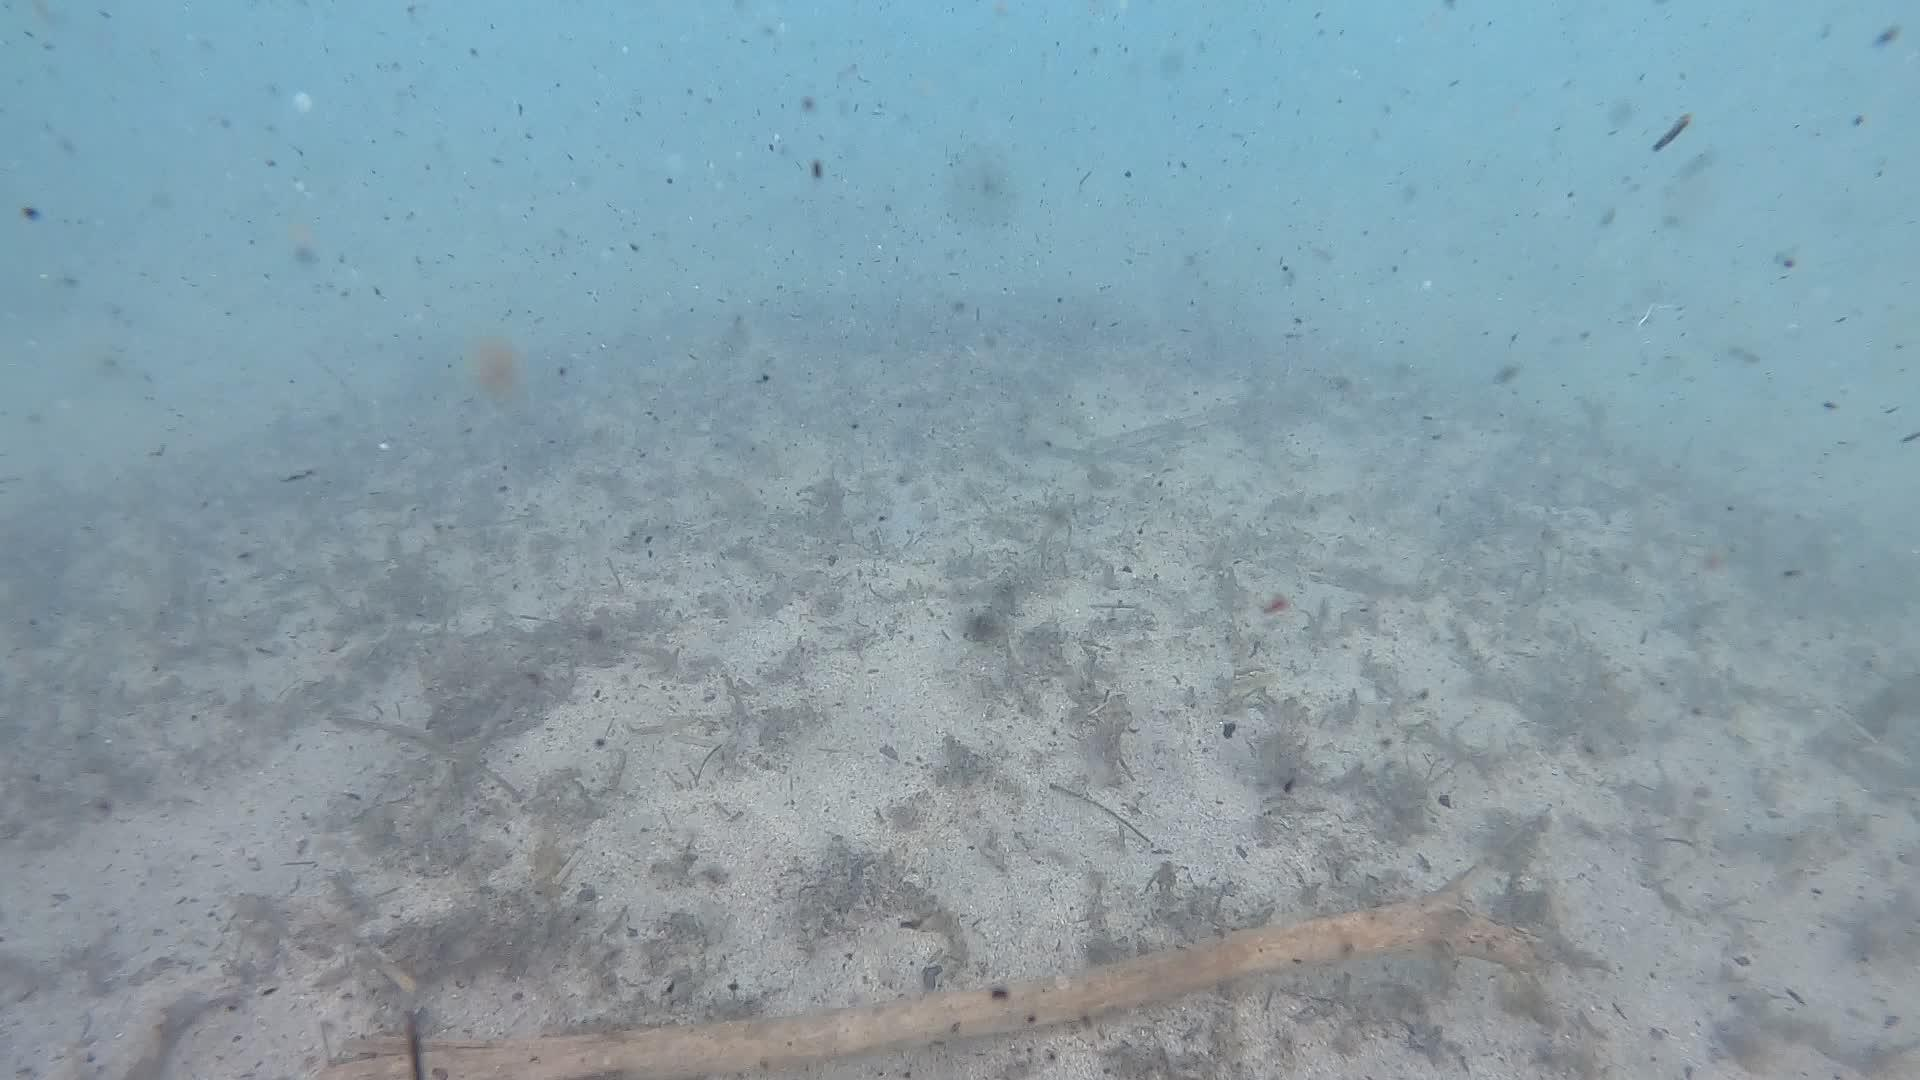wood: (330, 872, 1545, 1080)
